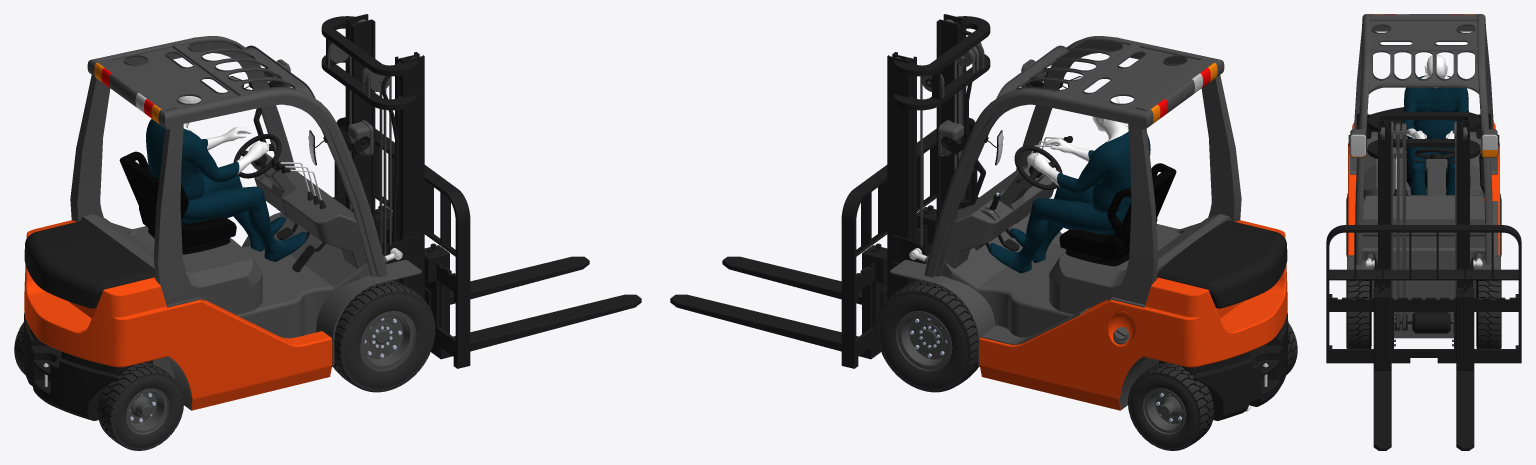
The model's file is Forklift2.obj.
The picture shows the model from 3 angles, left to right: view 1: azimuth 30°, elevation 25°; view 2: azimuth 150°, elevation 25°; view 3: azimuth 270°, elevation 25°; orthographic projection. The views are drawn at different scales.
Parts seen in each view (by area): view 1: Forklift/Toyota forklift, Forklift/driver___ _________; view 2: Forklift/Toyota forklift, Forklift/driver___ _________; view 3: Forklift/Toyota forklift, Forklift/driver___ _________.
Boxes of the visible parts, left/top/right/bottom form: Forklift/Toyota forklift: left=14, top=14, right=641, bottom=450; Forklift/driver___ _________: left=146, top=96, right=306, bottom=261; Forklift/Toyota forklift: left=670, top=14, right=1297, bottom=450; Forklift/driver___ _________: left=990, top=97, right=1150, bottom=273; Forklift/Toyota forklift: left=1326, top=14, right=1521, bottom=450; Forklift/driver___ _________: left=1402, top=54, right=1468, bottom=194.
Bounding box in the file's own units: 3759 × 2017 × 1394.
